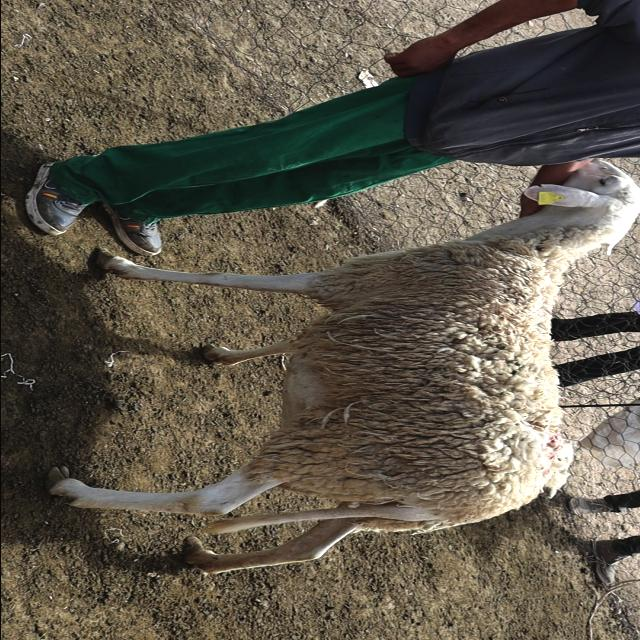Score_4: (46, 159, 640, 573)
